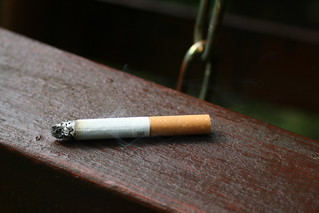cigarette: (48, 113, 215, 143)
